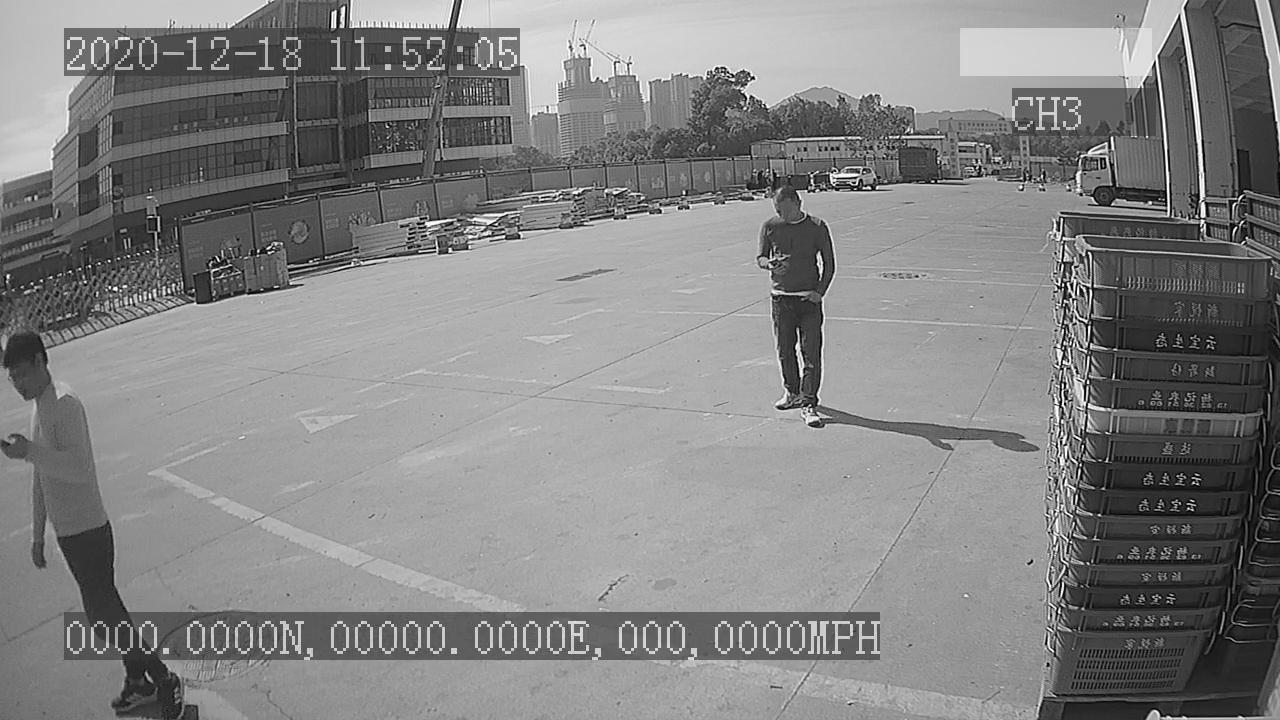person: (752, 181, 840, 433)
